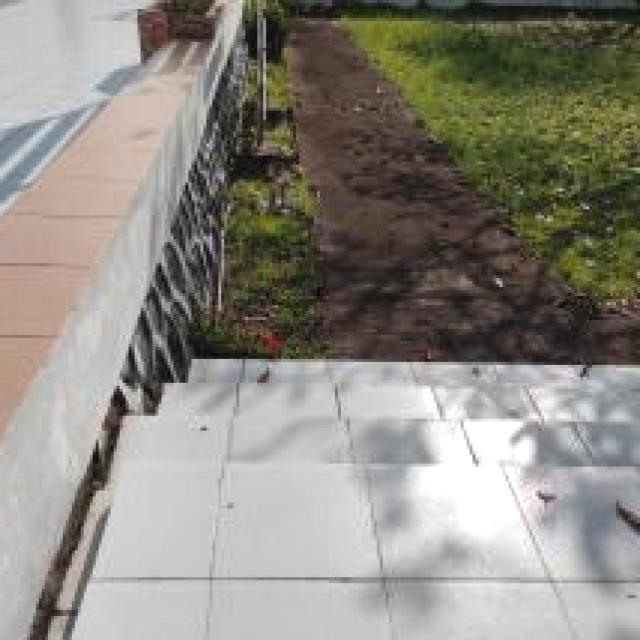downstair: (126, 297, 640, 620)
